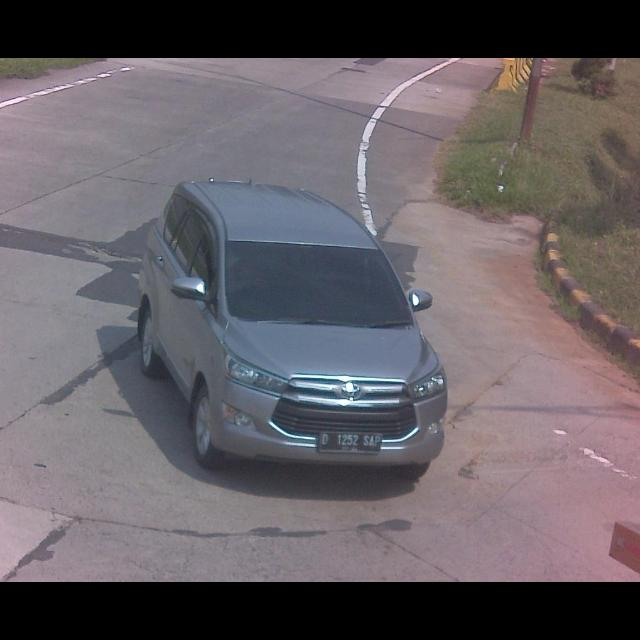plate: (317, 432, 386, 454)
